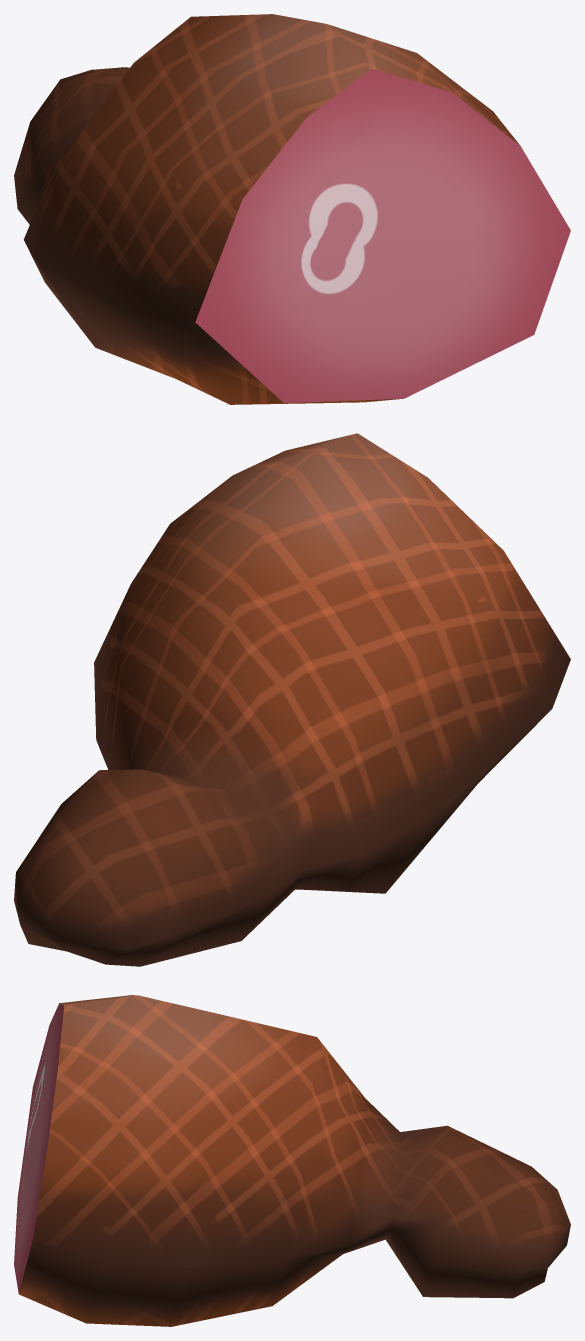
File: Ham.fbx
3 renders of one model, top to bottom at view 1: azimuth 30°, elevation 25°; view 2: azimuth 150°, elevation 25°; view 3: azimuth 270°, elevation 25°, orthographic. The views are drawn at different scales.
Parts seen in each view (by area): view 1: pPlane3; view 2: pPlane3; view 3: pPlane3.
Boxes of the visible parts, x1,y1,x2,y2 form: pPlane3: (14,14,570,404); pPlane3: (14,433,570,966); pPlane3: (14,995,570,1326).
Bounding box in the file's own units: 0.5725 × 0.4762 × 0.7836.
